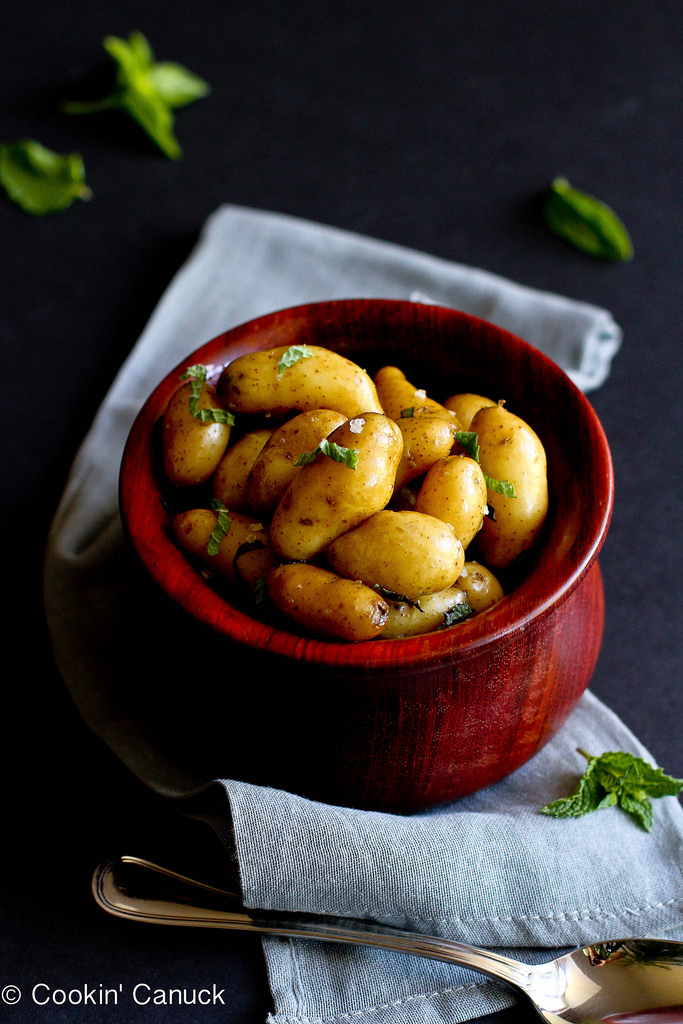boiled potatoes: (181, 357, 531, 607)
